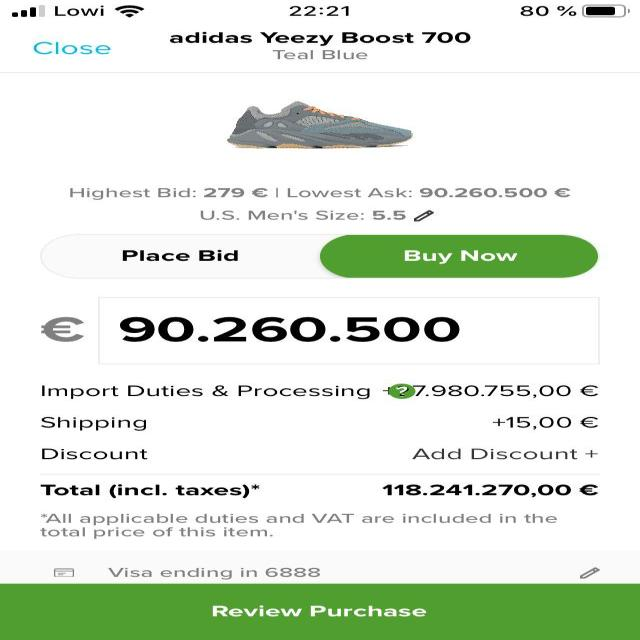shoe: (225, 102, 417, 151)
